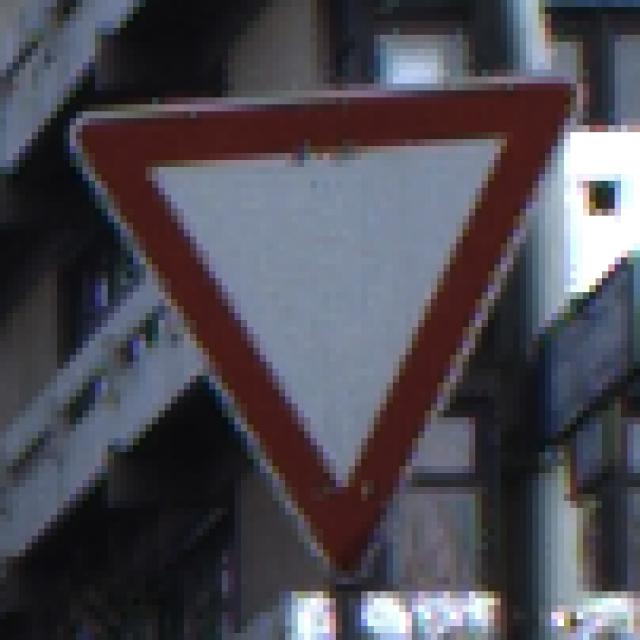Give Way: (58, 64, 590, 585)
